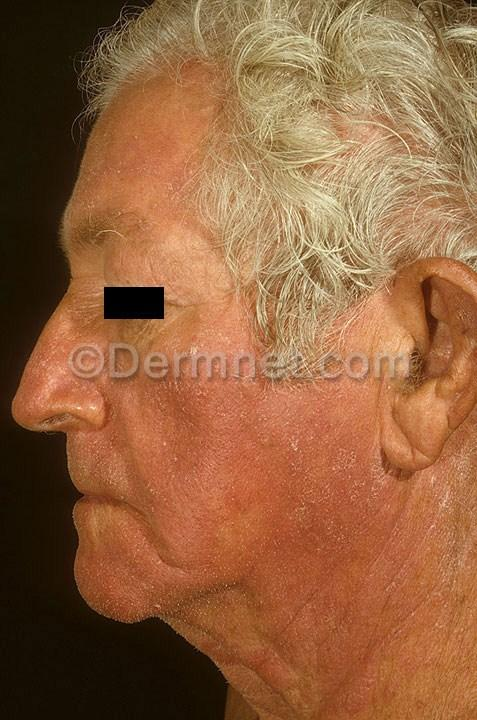Eczema: (221, 522, 312, 633), (315, 561, 415, 649), (242, 447, 307, 531), (160, 503, 230, 581), (84, 554, 163, 620), (361, 485, 427, 563), (429, 449, 477, 555), (184, 437, 249, 514), (315, 643, 376, 718), (132, 439, 200, 506), (210, 378, 271, 449), (263, 632, 322, 704), (307, 479, 359, 559), (161, 372, 218, 443), (372, 645, 427, 718), (327, 424, 382, 491), (165, 566, 222, 630), (418, 554, 462, 629), (204, 625, 262, 675), (279, 396, 322, 461), (315, 375, 373, 421), (127, 390, 170, 435), (109, 515, 158, 554)
